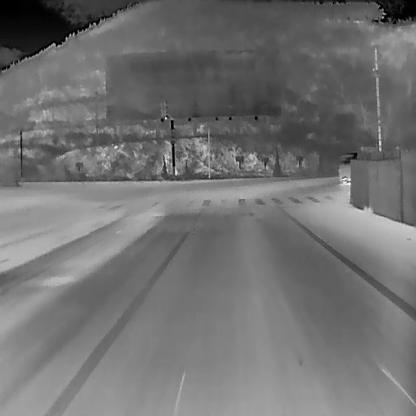car: (338, 152, 358, 183)
crosswalk: (119, 191, 348, 215)
